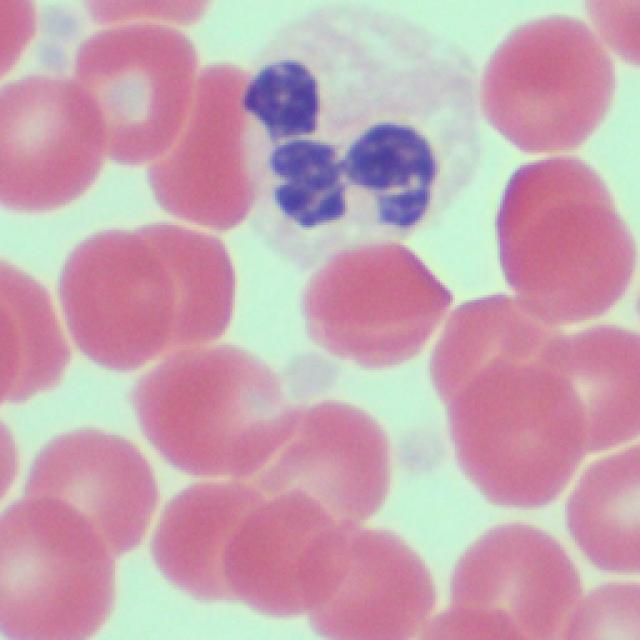RBC: (130, 343, 294, 478), (450, 358, 584, 509), (479, 14, 616, 155), (304, 243, 454, 368), (148, 62, 256, 232), (240, 403, 390, 523), (430, 294, 567, 424), (23, 426, 158, 556), (77, 23, 200, 165), (0, 497, 117, 639), (59, 230, 175, 372), (500, 160, 616, 288), (228, 492, 348, 615), (308, 527, 437, 639), (0, 75, 105, 212), (121, 222, 235, 346), (156, 484, 273, 604), (446, 521, 579, 623), (519, 206, 634, 323), (548, 328, 638, 449), (0, 262, 69, 402), (566, 450, 640, 578), (570, 583, 639, 638), (586, 0, 640, 69), (425, 608, 528, 639), (82, 0, 207, 20)
WBC: (243, 6, 483, 265)
